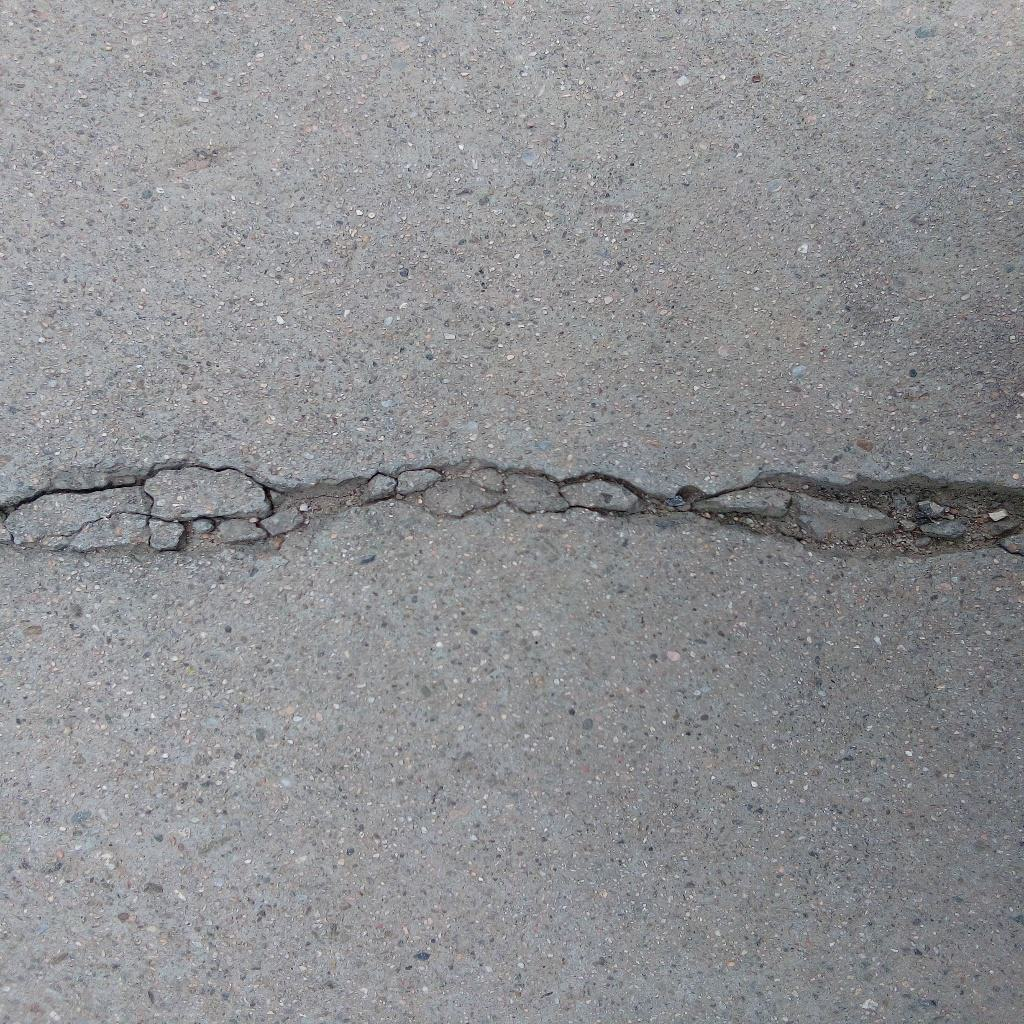Spalling: (1, 455, 1024, 561)
